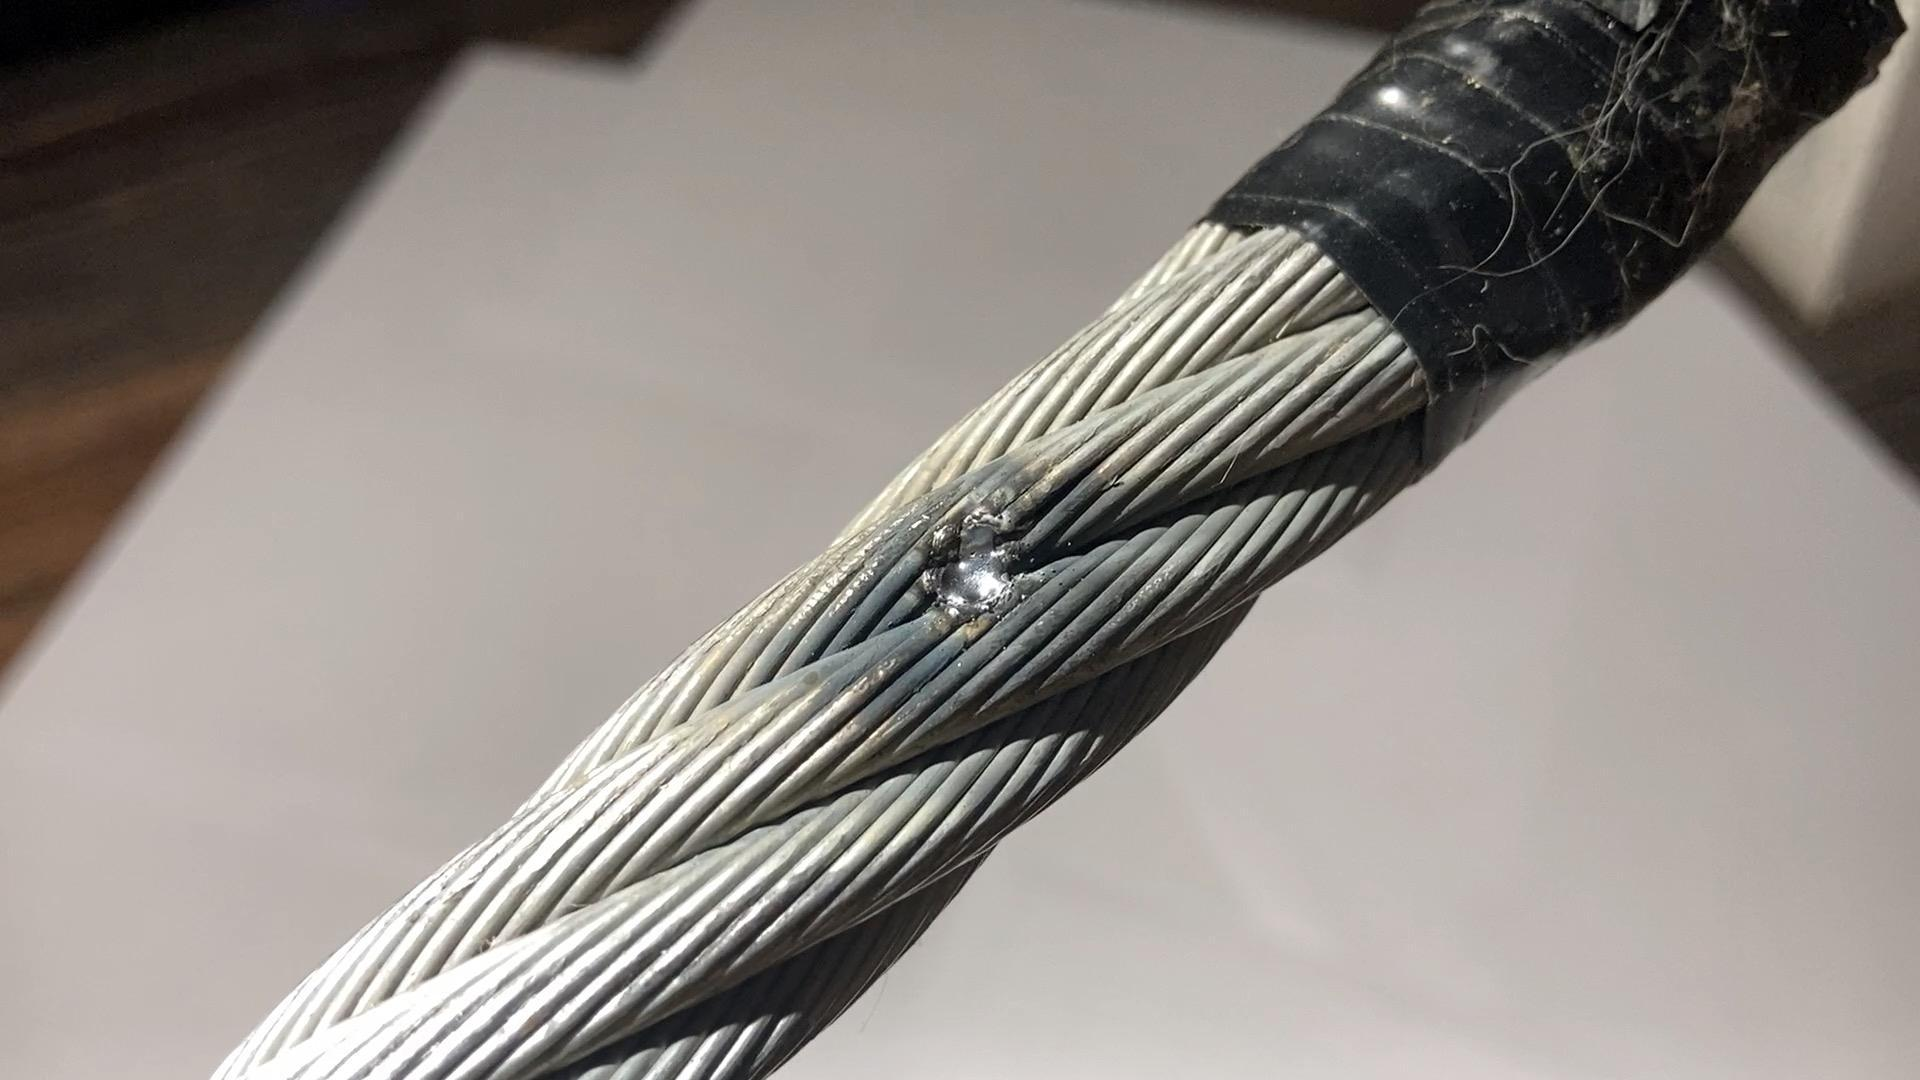thunderbolt: (891, 483, 1047, 626)
